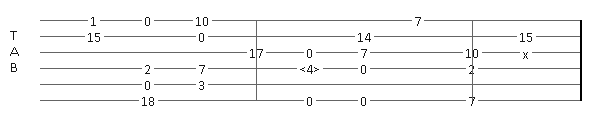0: (144, 78, 155, 91), (144, 14, 155, 27), (198, 30, 209, 43), (306, 94, 317, 107), (306, 46, 317, 59), (360, 94, 371, 107), (360, 62, 371, 75)
1: (90, 14, 101, 27)
10: (195, 14, 213, 27), (465, 46, 483, 59)
14: (357, 30, 375, 43)
15: (87, 30, 105, 43), (519, 30, 537, 43)
17: (249, 46, 267, 59)
18: (141, 94, 159, 107)
2: (144, 62, 155, 75), (468, 62, 479, 75)
3: (198, 78, 209, 91)
7: (198, 62, 209, 75), (360, 46, 371, 59), (414, 14, 425, 27), (468, 94, 479, 107)
harmonic: (299, 62, 324, 75)
x: (522, 47, 533, 58)
